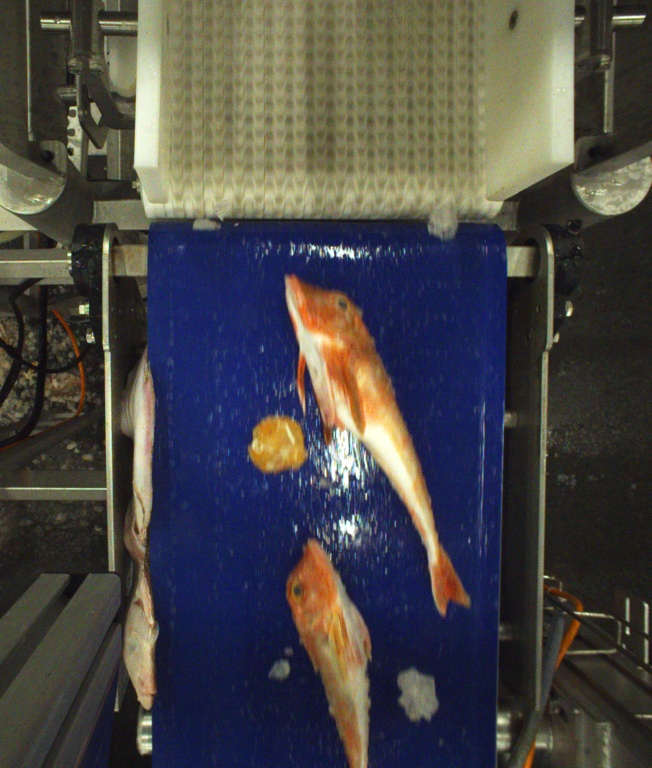GUU: (282, 274, 473, 615)
